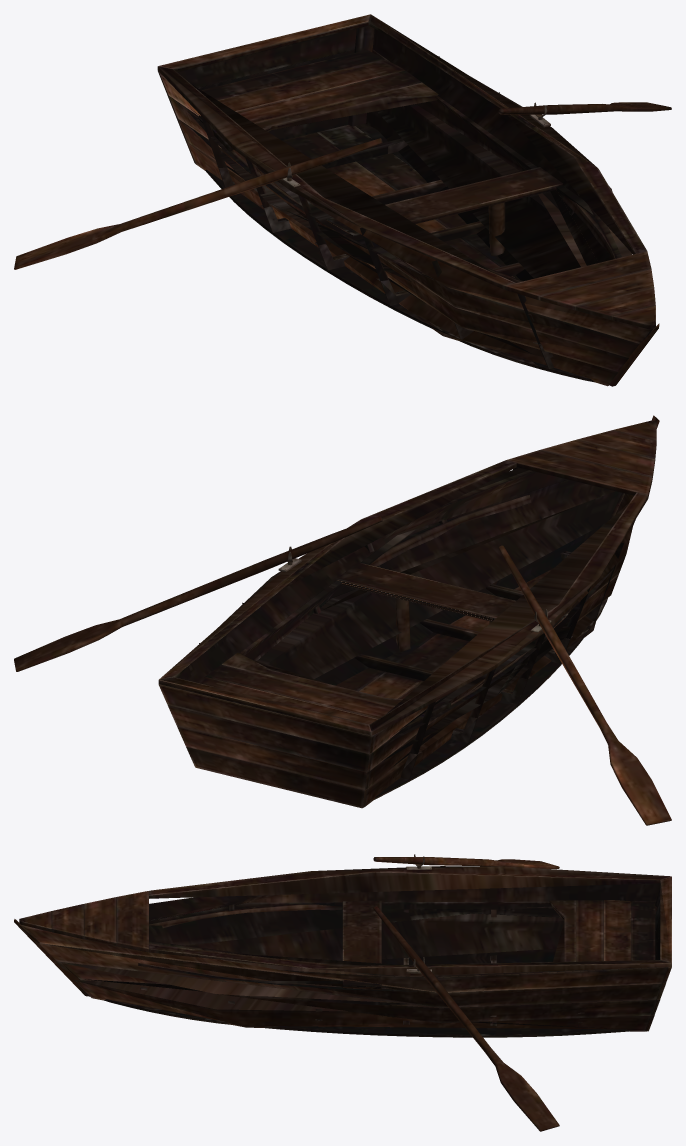
Rendered from thuyen-go.glb.
The picture shows the model from 3 angles, top to bottom: view 1: azimuth 30°, elevation 25°; view 2: azimuth 150°, elevation 25°; view 3: azimuth 270°, elevation 25°; orthographic projection. The views are drawn at different scales.
Parts seen in each view (by area): view 1: Base, RearBench, CrossPlanks, Bench, PaddleR, SideSupport, PaddleL, BenchSupport; view 2: Base, RearBench, CrossPlanks, PaddleR, Bench, PaddleL, SideSupport, BenchSupport; view 3: Base, RearBench, PaddleL, Bench, SideSupport, PaddleR.
Boxes of the visible parts, x1,y1,x2,y2 form: Base: (157,14,659,386); RearBench: (198,50,438,151); CrossPlanks: (200,56,579,368); Bench: (326,167,562,236); PaddleR: (14,138,382,269); SideSupport: (187,111,615,321); PaddleL: (498,102,671,114); BenchSupport: (488,202,505,255); Base: (158,415,659,808); RearBench: (198,652,450,735); CrossPlanks: (199,467,635,779); PaddleR: (498,545,671,825); Bench: (336,562,568,628); PaddleL: (14,516,382,671); SideSupport: (370,495,599,742); BenchSupport: (395,598,491,651); Base: (14,866,671,1037); RearBench: (549,900,655,961); PaddleL: (373,906,559,1131); Bench: (342,901,381,989); SideSupport: (138,904,657,992); PaddleR: (373,857,559,868).
Size of the model in its own units: 0.9658 by 0.1941 by 0.9983.
Materials: 1 (1 with a texture image).
